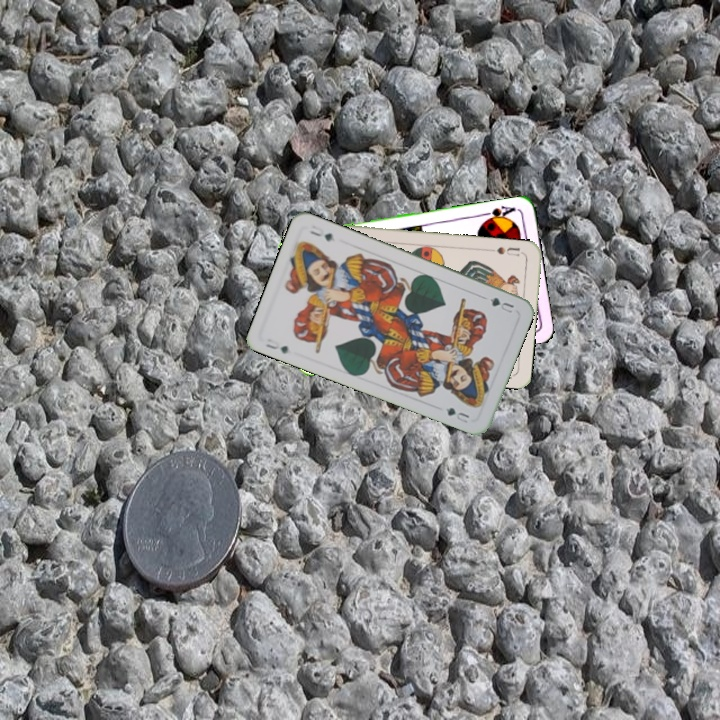GU: (479, 292, 516, 315), (261, 335, 291, 357)
SA: (479, 202, 518, 225)
SU: (486, 242, 526, 259)
